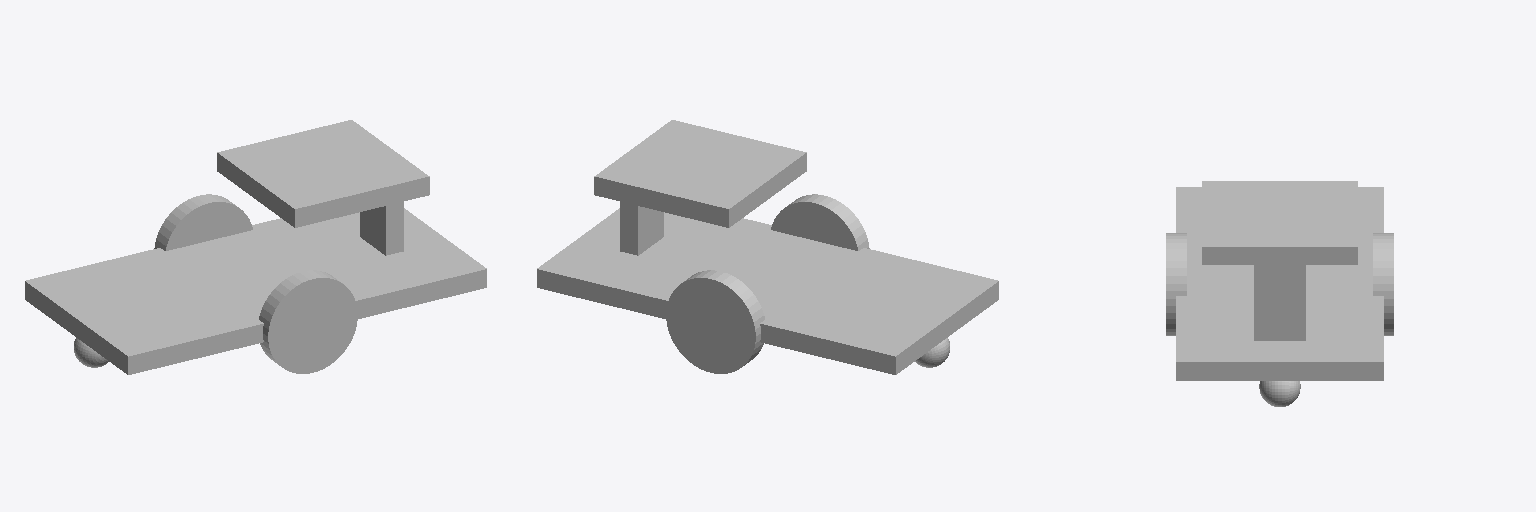
The model's file is test_refait v3.obj.
3 views of the same model, side by side, from view 1: azimuth 30°, elevation 25°; view 2: azimuth 150°, elevation 25°; view 3: azimuth 270°, elevation 25° (orthographic).
Parts seen in each view (by area): view 1: Corp, roue_gauche, roue_droite, roue_libre_avant; view 2: Corp, roue_droite, roue_gauche, roue_libre_avant; view 3: Corp, roue_gauche, roue_droite, roue_libre_arriere.
Part boxes in pixels (left/top/right/bottom): Corp: left=25, top=120, right=486, bottom=374; roue_gauche: left=259, top=270, right=357, bottom=373; roue_droite: left=154, top=194, right=252, bottom=250; roue_libre_avant: left=74, top=338, right=108, bottom=367; Corp: left=537, top=120, right=998, bottom=374; roue_droite: left=666, top=270, right=764, bottom=373; roue_gauche: left=771, top=194, right=869, bottom=250; roue_libre_avant: left=915, top=338, right=949, bottom=367; Corp: left=1176, top=181, right=1383, bottom=380; roue_gauche: left=1166, top=233, right=1186, bottom=335; roue_droite: left=1373, top=233, right=1393, bottom=335; roue_libre_arriere: left=1259, top=381, right=1300, bottom=406.
Size of the model in its own units: 400 by 160 by 220.